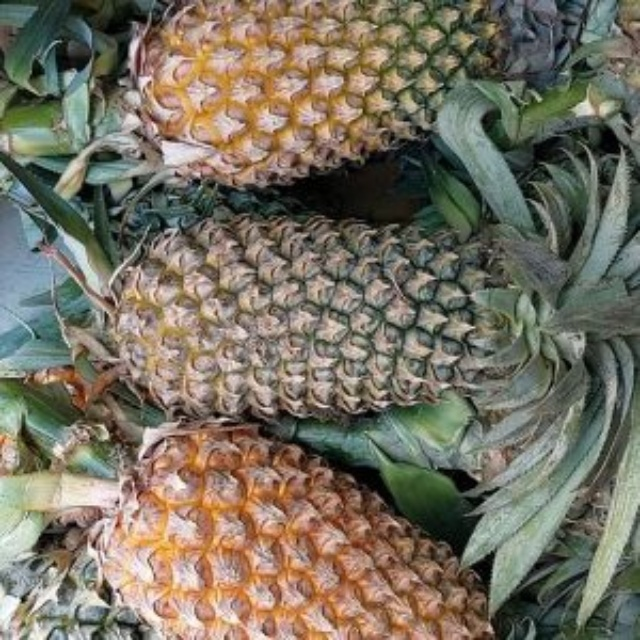thom: (99, 210, 548, 423), (87, 429, 527, 640), (103, 3, 559, 199)
